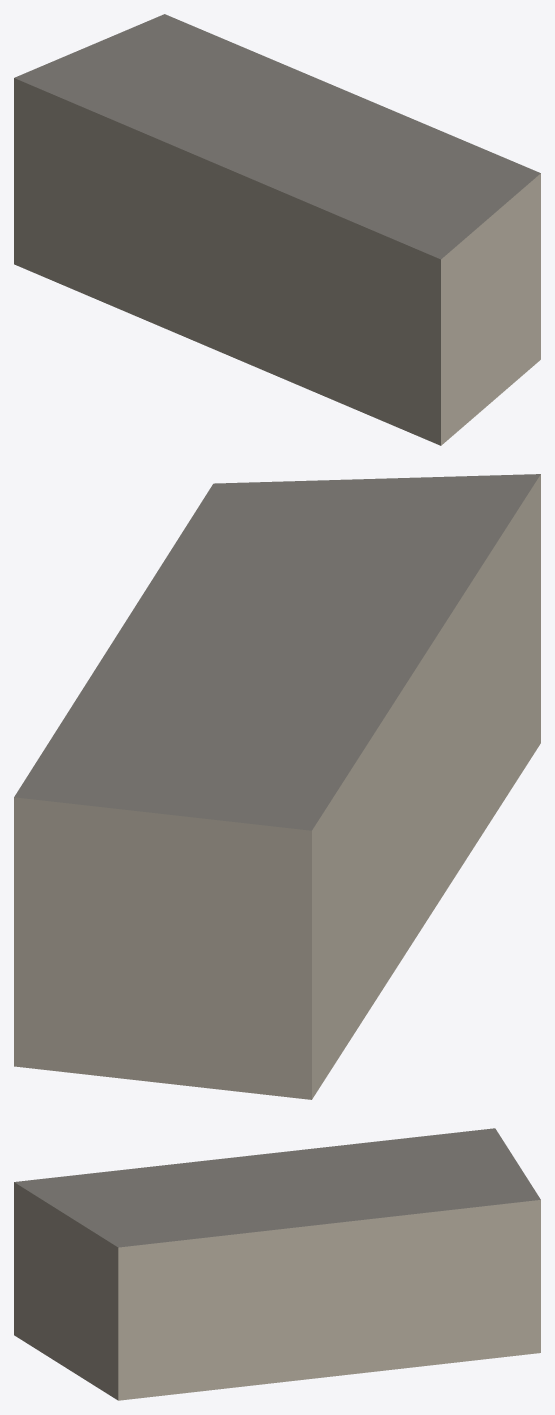
3 views of the same model, one above another, from view 1: azimuth 30°, elevation 25°; view 2: azimuth 150°, elevation 25°; view 3: azimuth 270°, elevation 25° (orthographic). The views are drawn at different scales.
Parts seen in each view (by area): view 1: HP-w378107117; view 2: HP-w378107117; view 3: HP-w378107117.
Boxes of the visible parts, x1=… form: HP-w378107117: x1=14, y1=14, x2=540, y2=445; HP-w378107117: x1=14, y1=474, x2=540, y2=1099; HP-w378107117: x1=14, y1=1128, x2=540, y2=1400.
Bounding box in the file's own units: 30.07 × 18 × 56.12.
